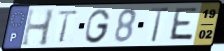8: (113, 7, 138, 45)
E: (166, 7, 200, 43)
G: (83, 8, 112, 45)
H: (19, 7, 57, 48)
T: (55, 9, 81, 45), (148, 6, 171, 44)
